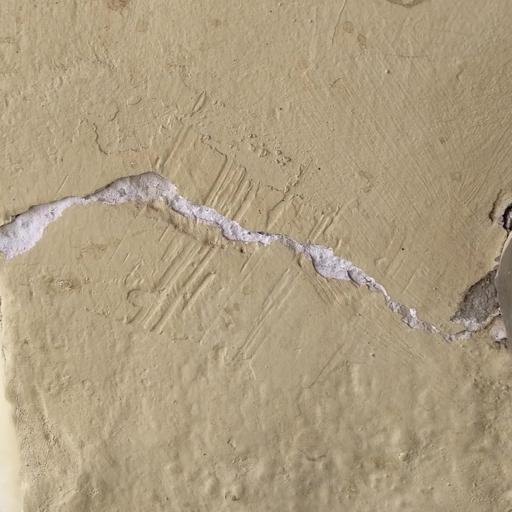peeling: (0, 140, 512, 356)
